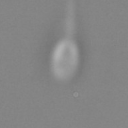normal: (55, 1, 87, 37)
